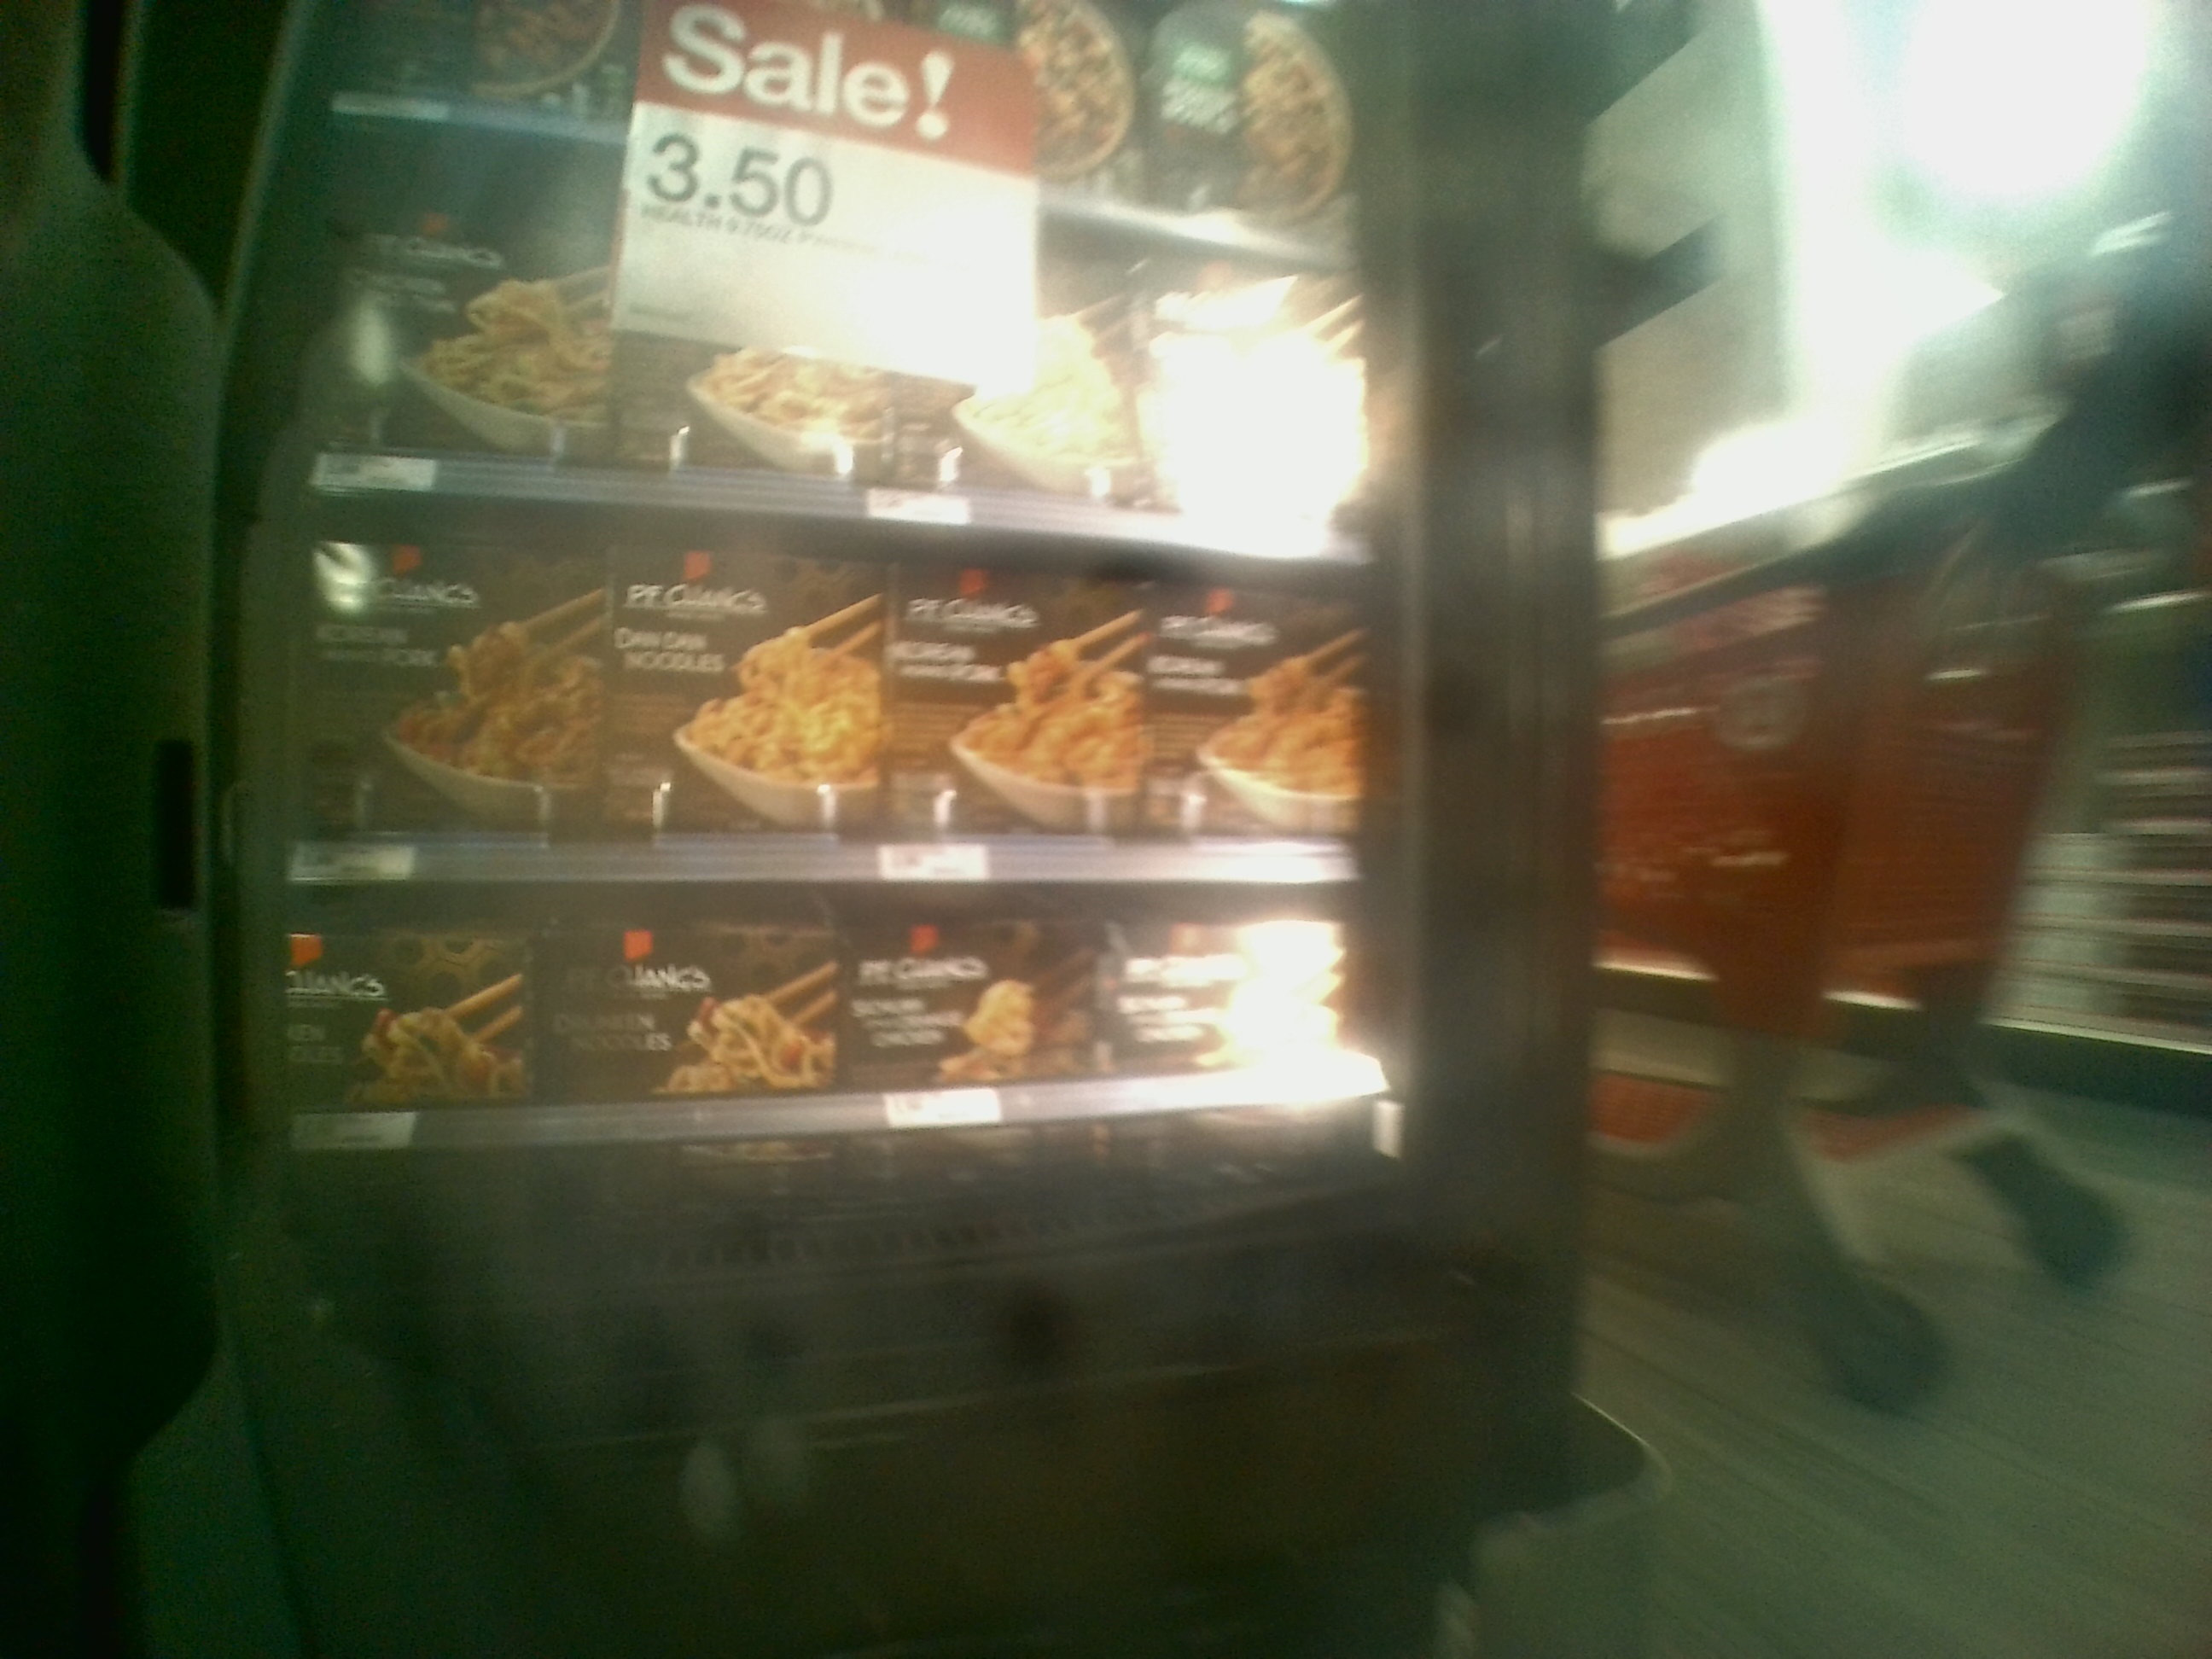shelf: (291, 859, 1395, 1286), (286, 471, 1385, 877)
